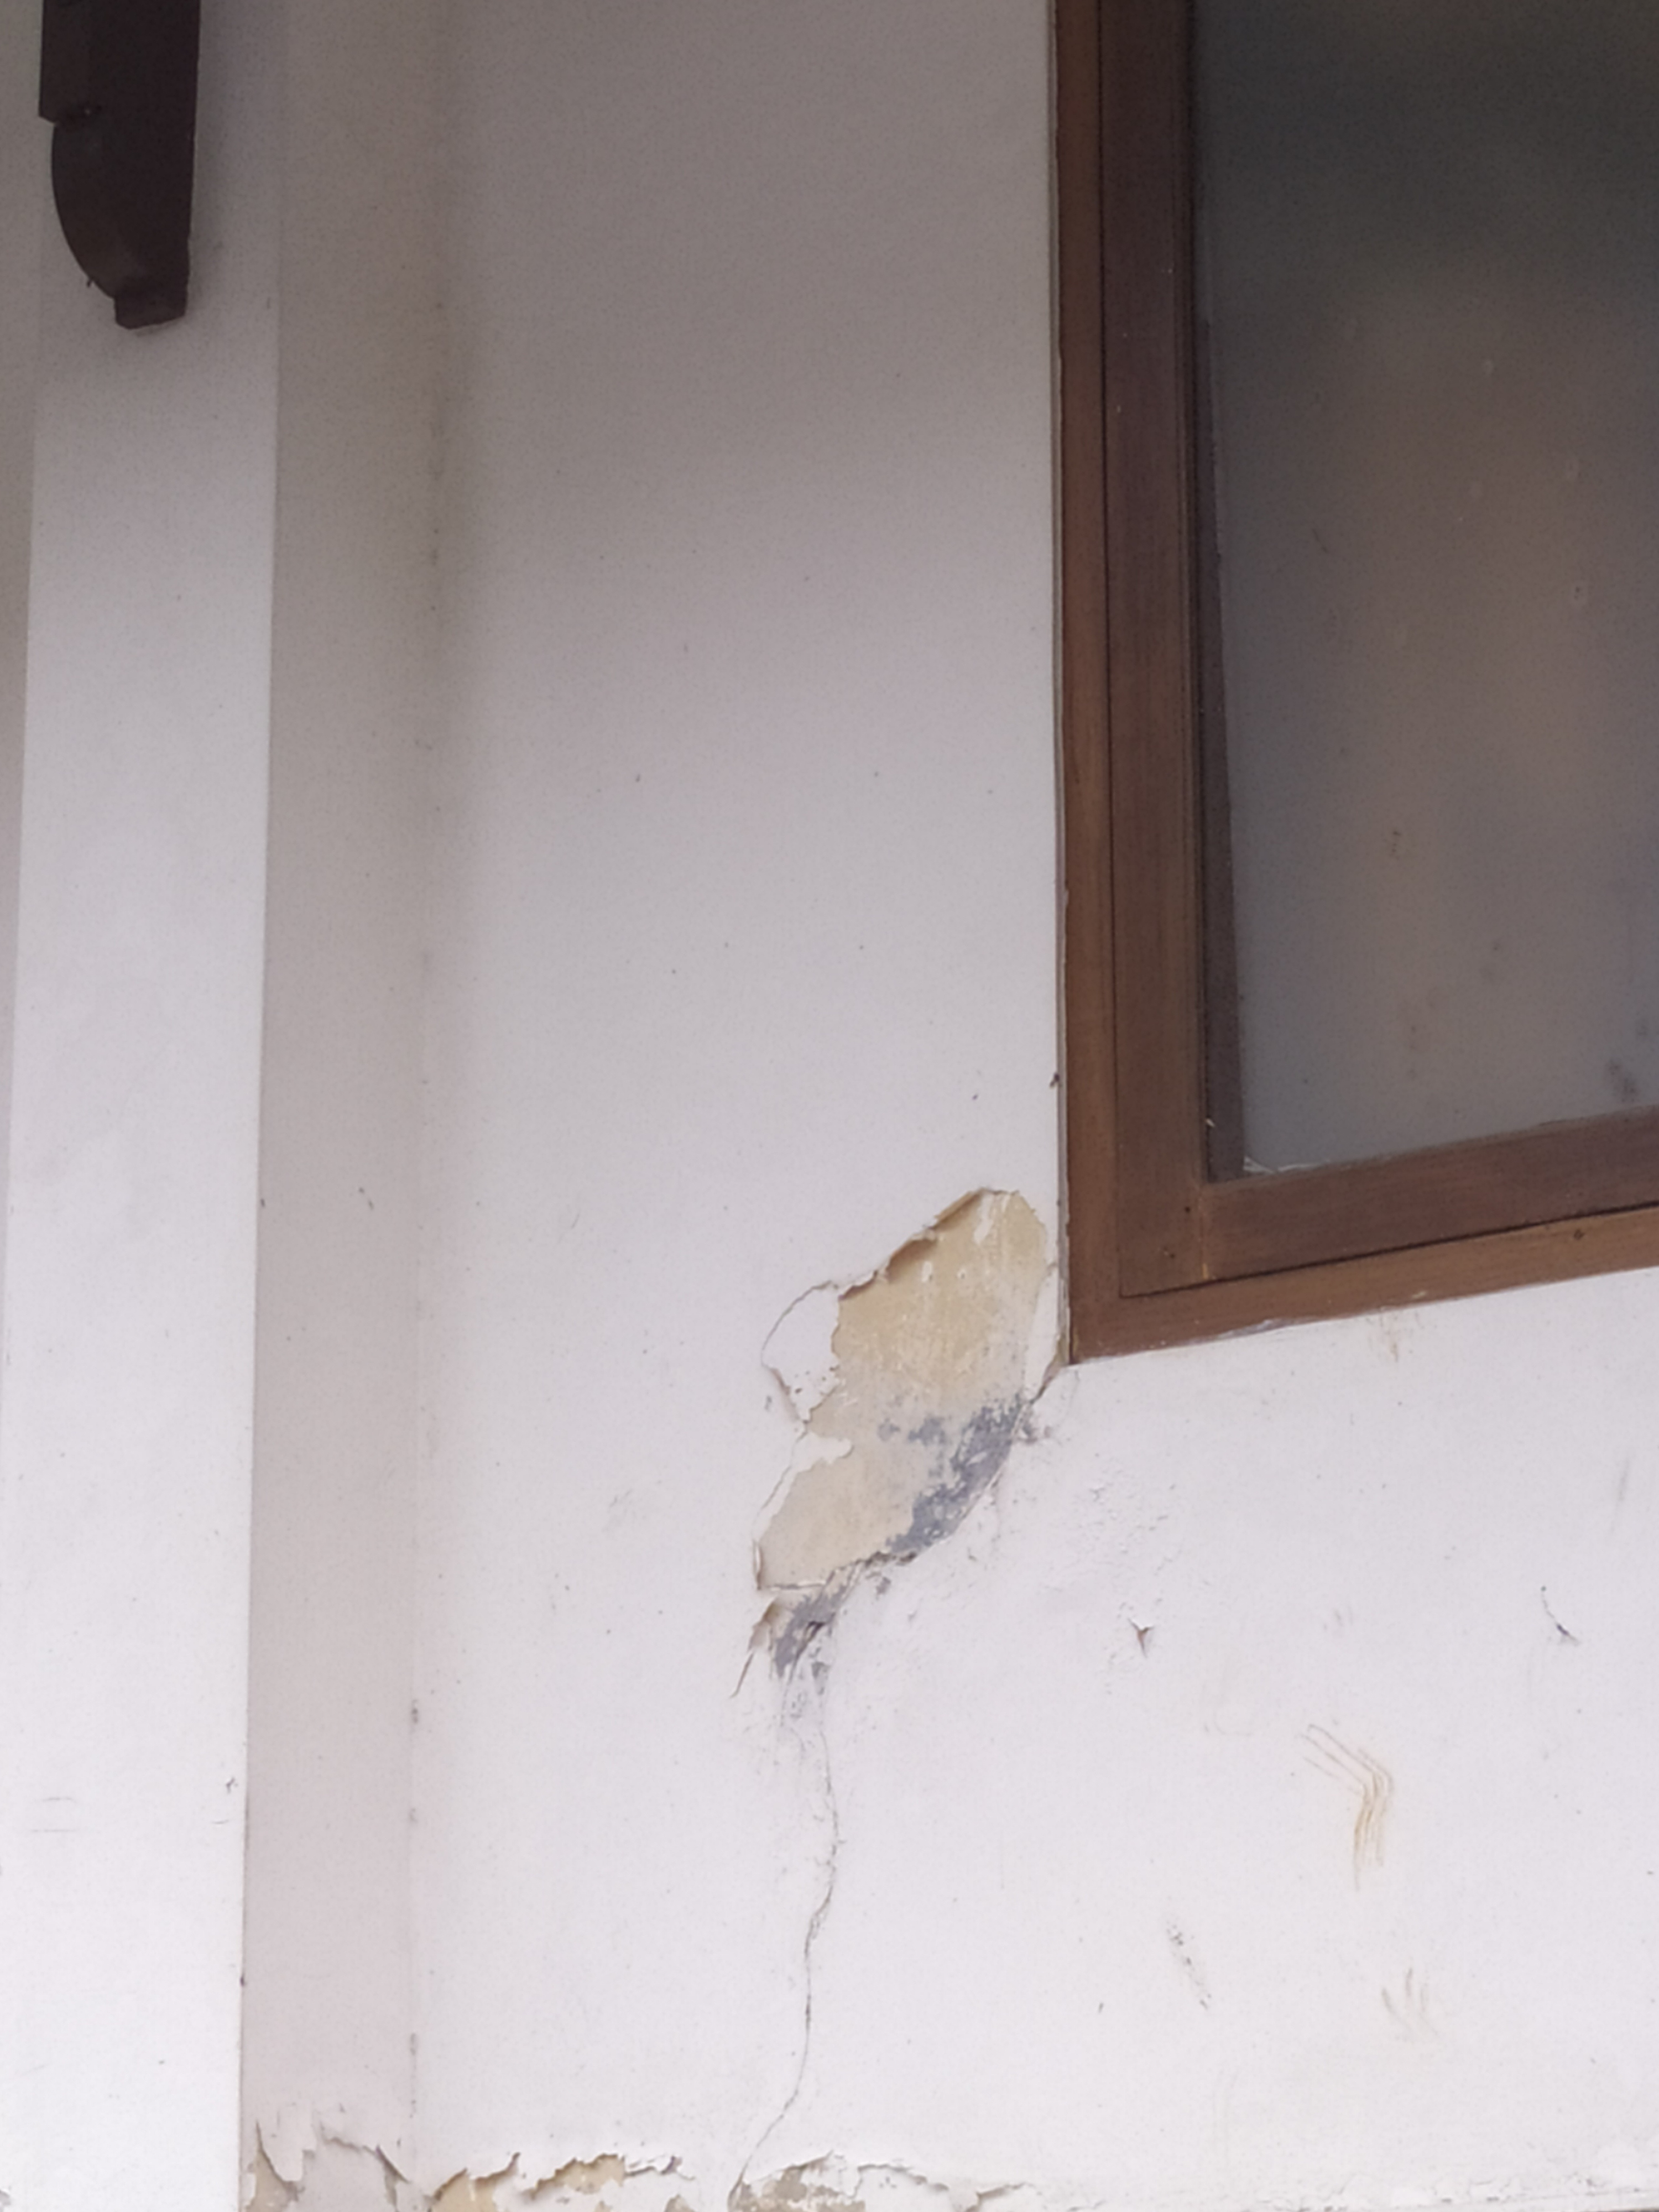crack: (739, 1191, 1079, 2160)
